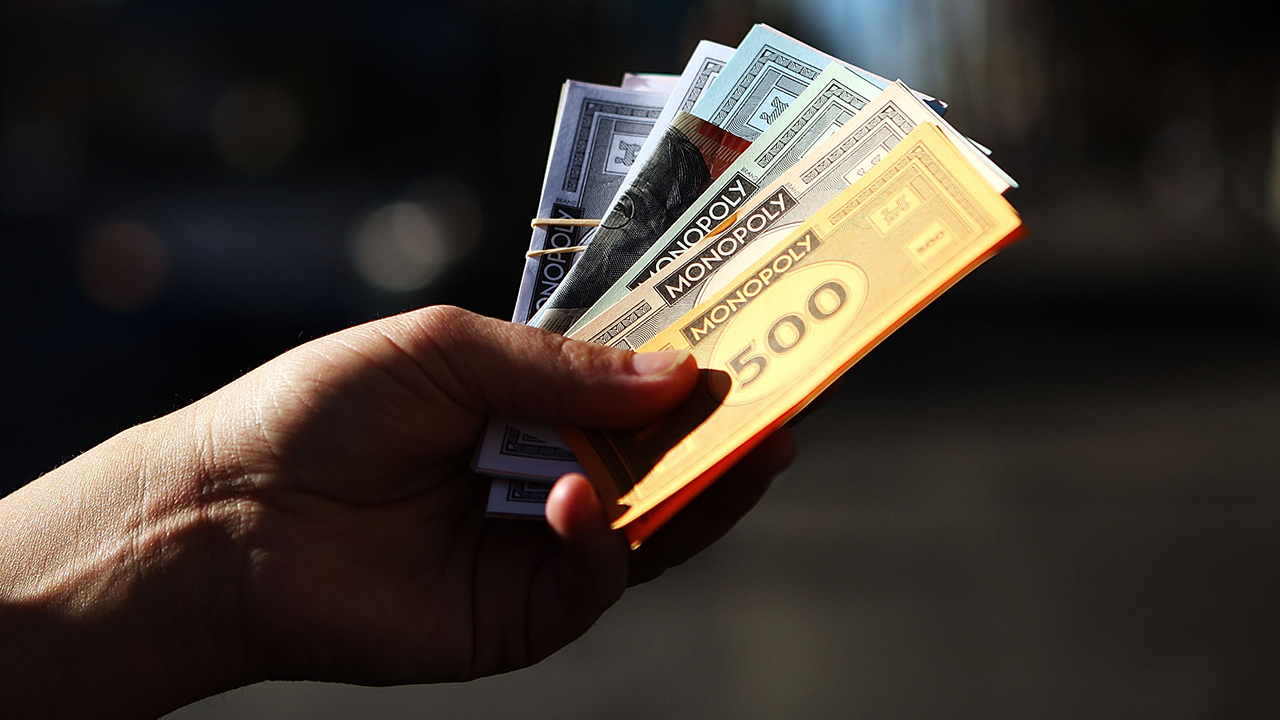$500 dollars: (679, 181, 989, 440)
